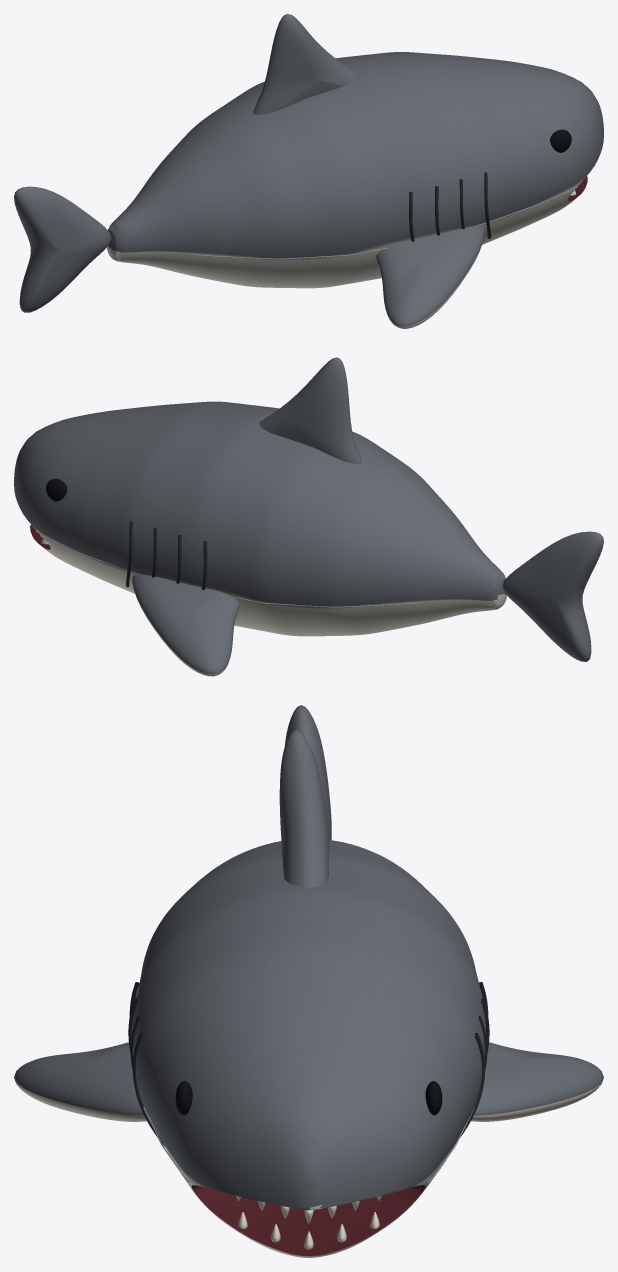
File: shark.glb
3 views of the same model, one above another, from view 1: azimuth 30°, elevation 25°; view 2: azimuth 150°, elevation 25°; view 3: azimuth 270°, elevation 25° (orthographic). The views are drawn at different scales.
Visible parts, largest first — view 1: Shark_Body_Continuous, Shark_Caudal_PaddedTail, Shark_Pectoral_-1, Shark_Dorsal_SoftFin, Shark_BellyPanel_Stitch_-1; view 2: Shark_Body_Continuous, Shark_Caudal_PaddedTail, Shark_Pectoral_+1, Shark_Dorsal_SoftFin, Shark_BellyPanel_Stitch_1; view 3: Shark_Body_Continuous, Shark_Pectoral_+1, Shark_Pectoral_-1, Shark_Dorsal_SoftFin, Shark_Caudal_PaddedTail.
Part boxes in pixels (box(x1,y1,x2,y2)): Shark_Body_Continuous: box(106, 52, 603, 288); Shark_Caudal_PaddedTail: box(14, 186, 111, 312); Shark_Pectoral_-1: box(376, 226, 484, 328); Shark_Dorsal_SoftFin: box(253, 14, 356, 114); Shark_BellyPanel_Stitch_-1: box(193, 187, 577, 259); Shark_Body_Continuous: box(14, 401, 507, 636); Shark_Caudal_PaddedTail: box(502, 531, 603, 661); Shark_Pectoral_+1: box(132, 575, 239, 676); Shark_Dorsal_SoftFin: box(259, 357, 361, 463); Shark_BellyPanel_Stitch_1: box(40, 536, 420, 607); Shark_Body_Continuous: box(131, 840, 486, 1257); Shark_Pectoral_+1: box(471, 1042, 603, 1121); Shark_Pectoral_-1: box(14, 1042, 146, 1121); Shark_Dorsal_SoftFin: box(279, 730, 329, 887); Shark_Caudal_PaddedTail: box(284, 705, 331, 840).
Size of the model in its own units: 2.55 by 1.11 by 1.61.
Materials: 8 (2 with a texture image).
